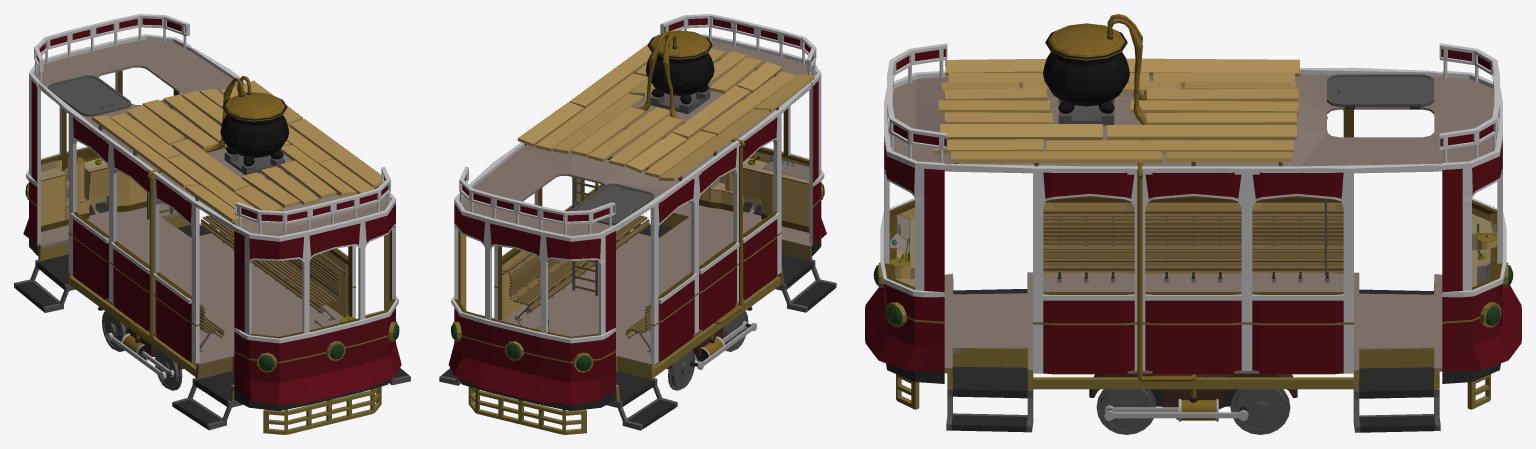
File: TramCauldron.fbx
The picture shows the model from 3 angles, left to right: view 1: azimuth 30°, elevation 25°; view 2: azimuth 150°, elevation 25°; view 3: azimuth 270°, elevation 25°; orthographic projection. The views are drawn at different scales.
Parts seen in each view (by area): view 1: Front, WallR, Ground, Ceiling, TramControlsRear, Rear, BenchesL, DecorationRear, Caldero, DecorationFront, Stairs3, Parrilla2 (+30 smaller); view 2: Rear, WallR, Ground, Ceiling, TramControlsFront, Front, BenchesL, DecorationRear, DecorationFront, Stairs2, Caldero, Parrilla1 (+30 smaller); view 3: WallL, Ceiling, BenchesR, Ground, Rear, Front, WallR, Stairs1, Stairs4, Caldero, SideUnderBars, TrapDoor (+31 smaller).
Part boxes in pixels (left/top/right/bottom): Front: left=234, top=193, right=401, bottom=410; WallR: left=68, top=114, right=199, bottom=364; Ground: left=38, top=203, right=343, bottom=390; Ceiling: left=34, top=39, right=390, bottom=236; TramControlsRear: left=41, top=156, right=162, bottom=231; Rear: left=23, top=34, right=190, bottom=255; BenchesL: left=200, top=215, right=347, bottom=320; DecorationRear: left=34, top=14, right=189, bottom=83; Caldero: left=220, top=99, right=289, bottom=166; DecorationFront: left=235, top=166, right=390, bottom=235; Stairs3: left=172, top=355, right=243, bottom=430; Parrilla2: left=263, top=386, right=381, bottom=434; Rear: left=448, top=193, right=615, bottom=410; WallR: left=650, top=114, right=781, bottom=365; Ground: left=503, top=202, right=811, bottom=389; Ceiling: left=459, top=41, right=815, bottom=236; TramControlsFront: left=689, top=154, right=809, bottom=232; Front: left=701, top=34, right=826, bottom=255; BenchesL: left=502, top=215, right=649, bottom=320; DecorationRear: left=459, top=166, right=615, bottom=235; DecorationFront: left=660, top=14, right=816, bottom=83; Stairs2: left=606, top=356, right=677, bottom=430; Caldero: left=645, top=37, right=714, bottom=104; Parrilla1: left=468, top=386, right=586, bottom=434; WallL: left=1033, top=172, right=1353, bottom=374; Ceiling: left=890, top=67, right=1496, bottom=174; BenchesR: left=1043, top=210, right=1343, bottom=282; Ground: left=944, top=272, right=1442, bottom=373; Rear: left=1442, top=70, right=1521, bottom=383; Front: left=865, top=70, right=944, bottom=383; WallR: left=1043, top=109, right=1353, bottom=273; Stairs1: left=1353, top=348, right=1440, bottom=432; Stairs4: left=946, top=348, right=1033, bottom=432; Caldero: left=1043, top=32, right=1129, bottom=113; SideUnderBars: left=1033, top=377, right=1353, bottom=389; TrapDoor: left=1327, top=74, right=1434, bottom=106.
Bounding box in the file's own units: 11.33 × 15.47 × 24.53.
